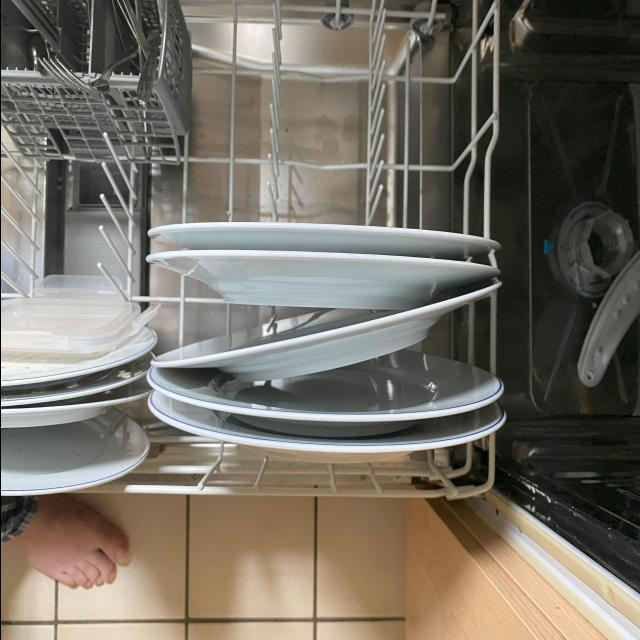clutery_bin: (6, 0, 169, 102)
empty_slot: (197, 0, 469, 222), (1, 139, 135, 292)
